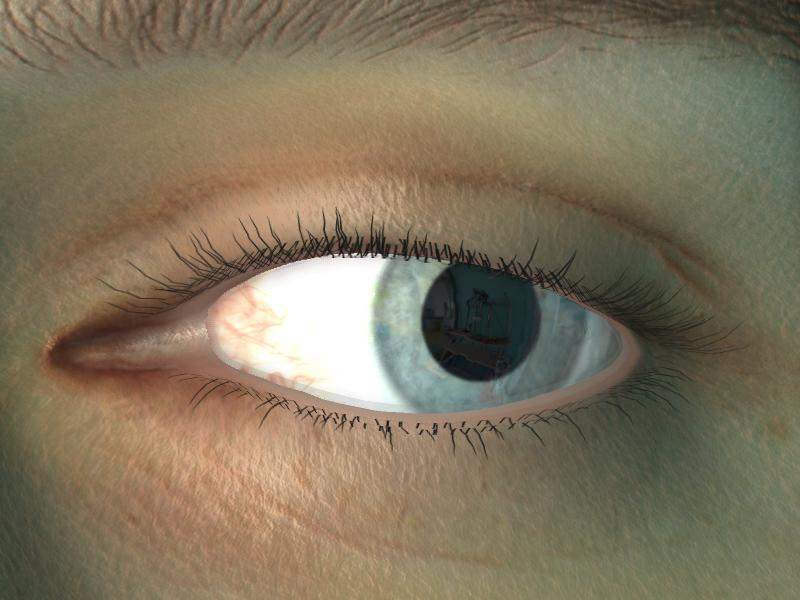eye: (372, 253, 590, 414)
